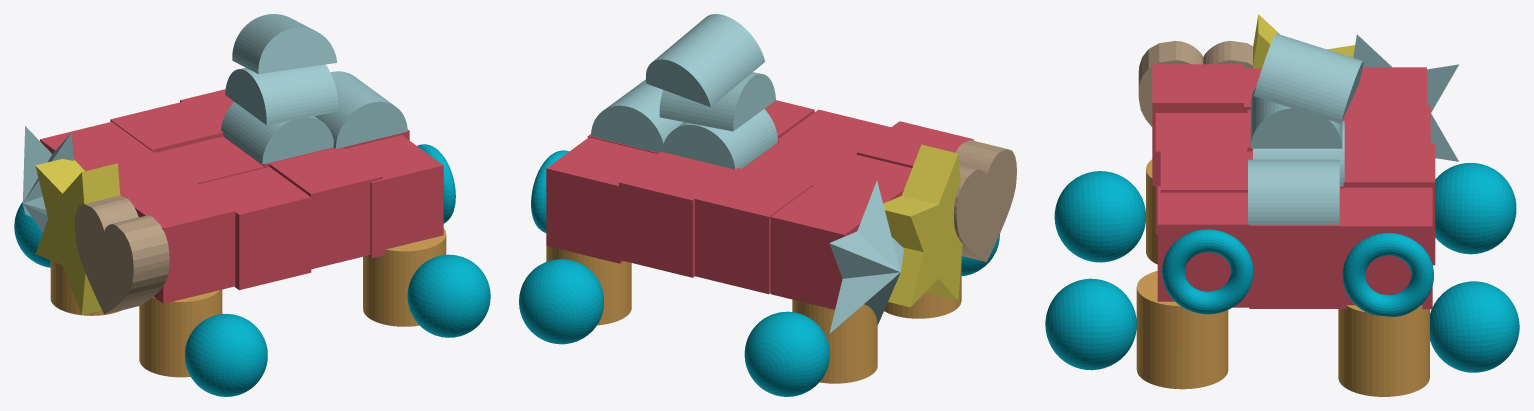
The picture shows the model from 3 angles, left to right: view 1: azimuth 30°, elevation 25°; view 2: azimuth 150°, elevation 25°; view 3: azimuth 270°, elevation 25°; orthographic projection. The views are drawn at different scales.
Visible parts, largest first — view 1: Mesh_Mesh_head_geo.001_lambert2SG.001; view 2: Mesh_Mesh_head_geo.001_lambert2SG.001; view 3: Mesh_Mesh_head_geo.001_lambert2SG.001.
Part boxes in pixels (bbox=[...]): Mesh_Mesh_head_geo.001_lambert2SG.001: bbox=[14, 14, 490, 396]; Mesh_Mesh_head_geo.001_lambert2SG.001: bbox=[519, 14, 1016, 396]; Mesh_Mesh_head_geo.001_lambert2SG.001: bbox=[1045, 14, 1519, 396].
Size of the model in its own units: 0.0953 by 0.0722 by 0.1035.
